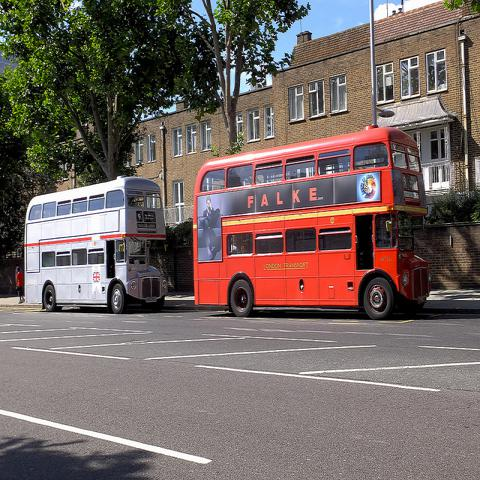bus: (192, 125, 434, 322), (23, 179, 169, 314)
